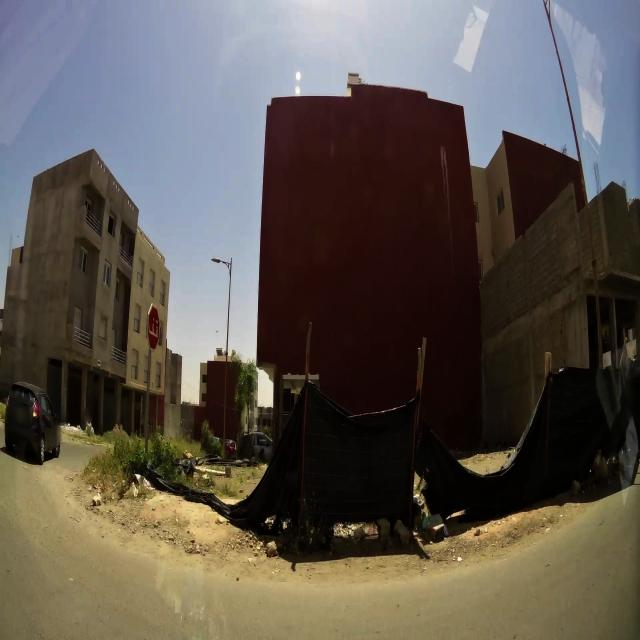car: (4, 380, 61, 464), (238, 431, 274, 460)
